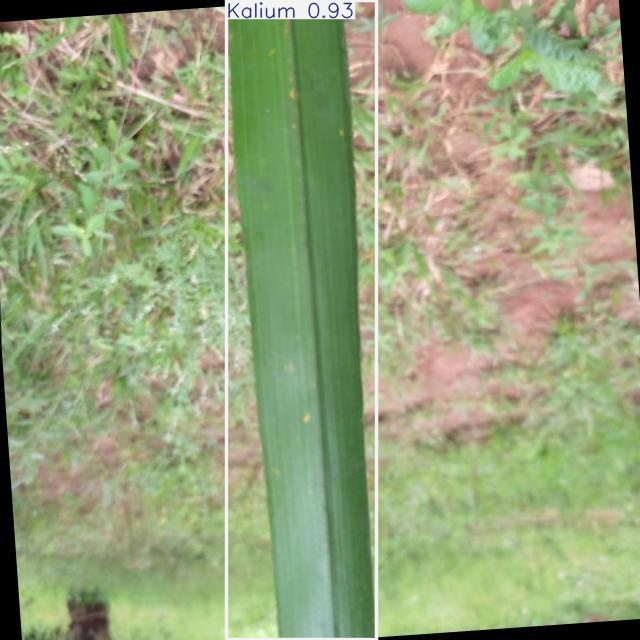Kalium: (226, 0, 376, 640)
